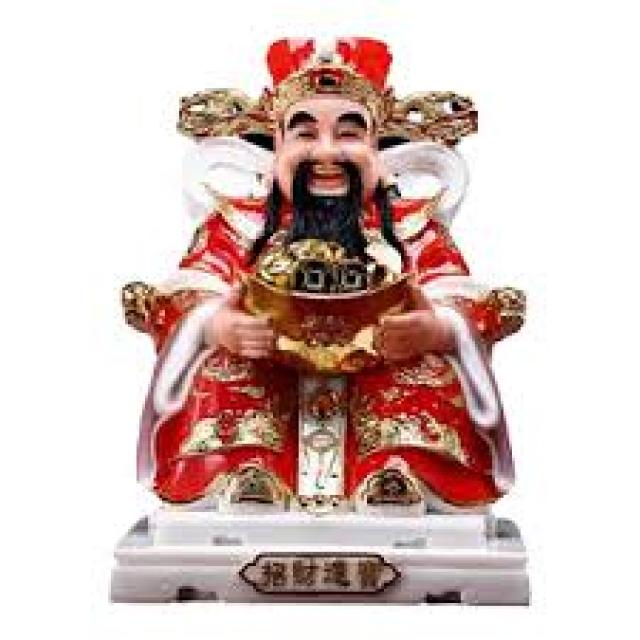Cai shen: (142, 32, 514, 515)
